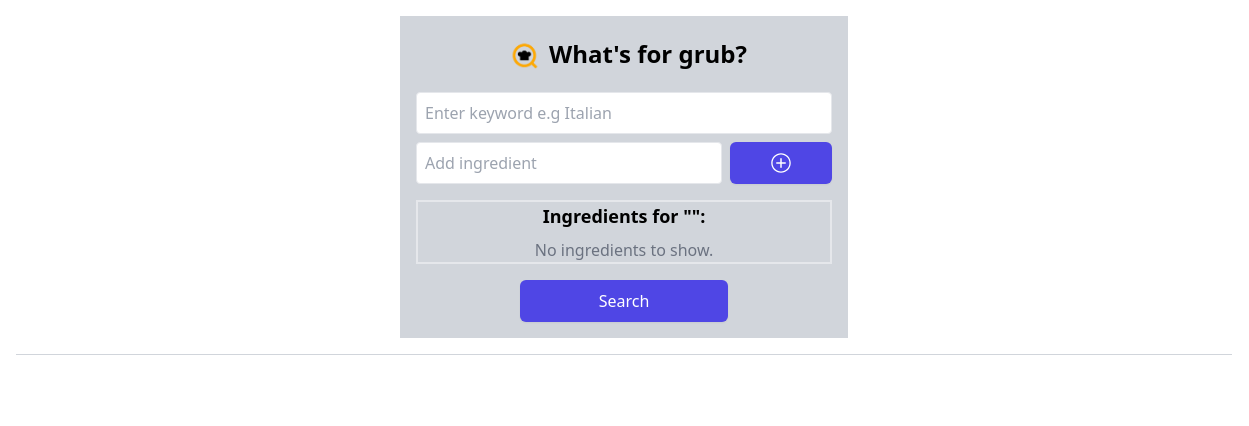
Test: SearchPage component › should show an error if the ingredient already exists
Type "Chicken" into the field with placeholder "Add ingredient". click: coordinates (569, 163)
box: [416,142,722,184]
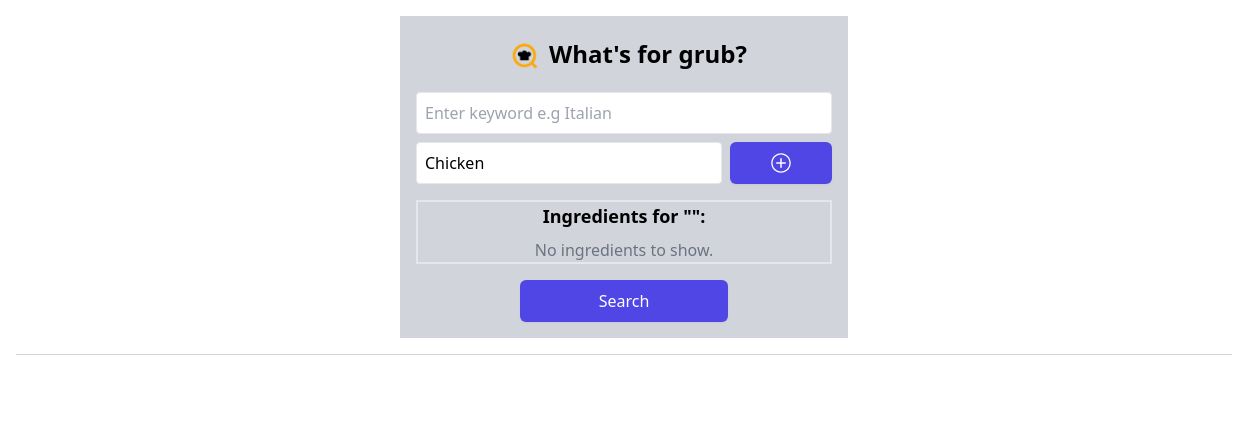
Click the button with test id "add-ingredient-button". click: coordinates (781, 163)
box: [730,142,832,184]
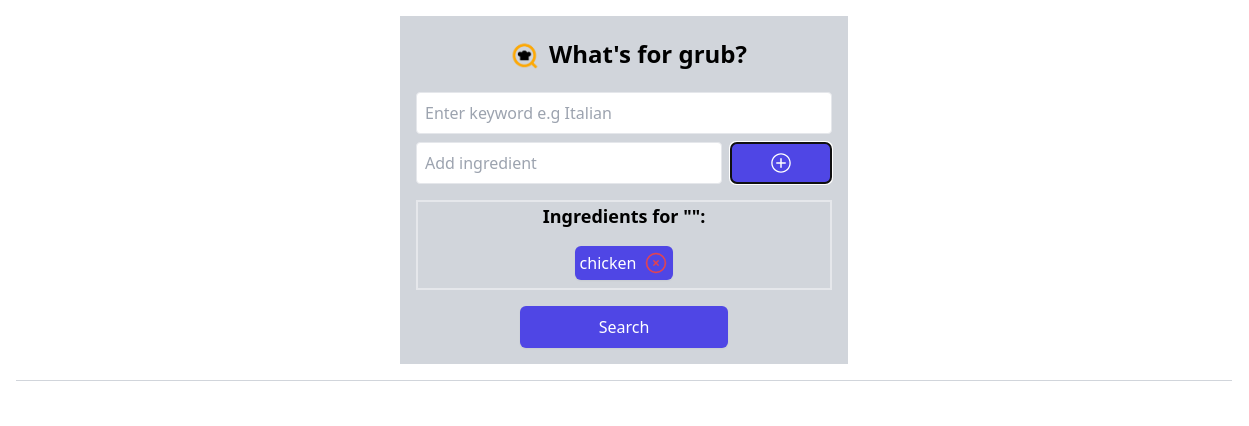
Type "Chicken" into the field with placeholder "Add ingredient". click: coordinates (569, 163)
box: [416,142,722,184]
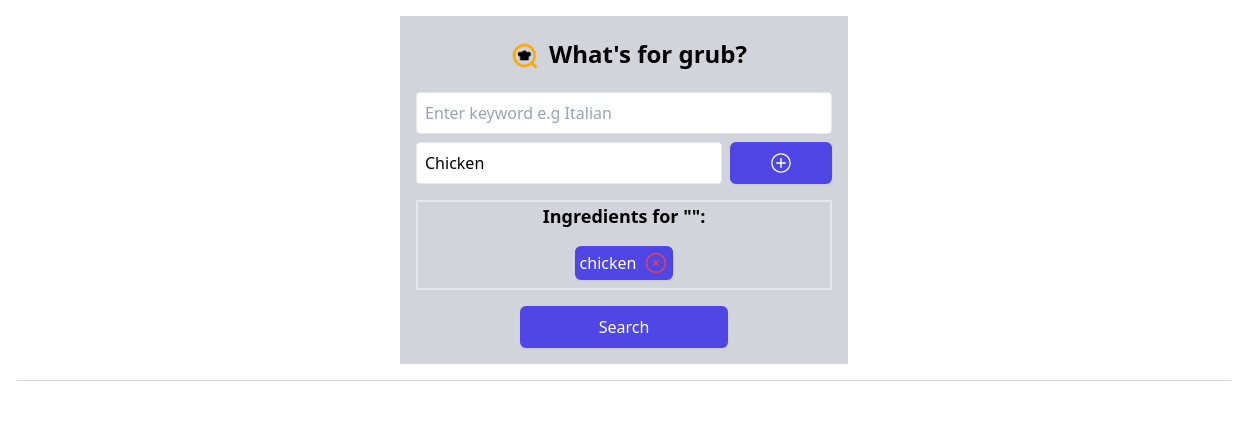
Click the button with test id "add-ingredient-button". click: coordinates (781, 163)
box: [730,142,832,184]
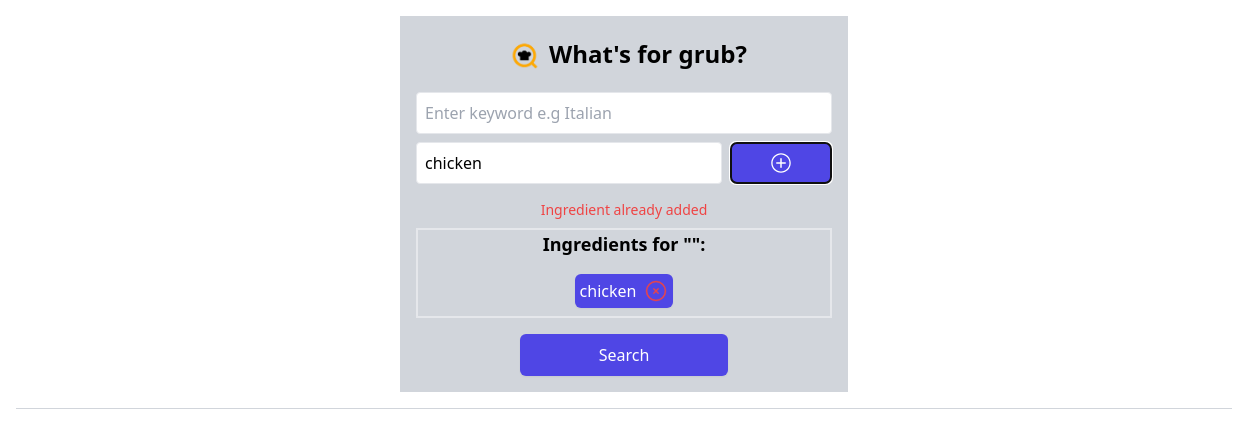
Expected: the text with test id "ingredient-error" reads "Ingredient already added", [541,200,707,219]
